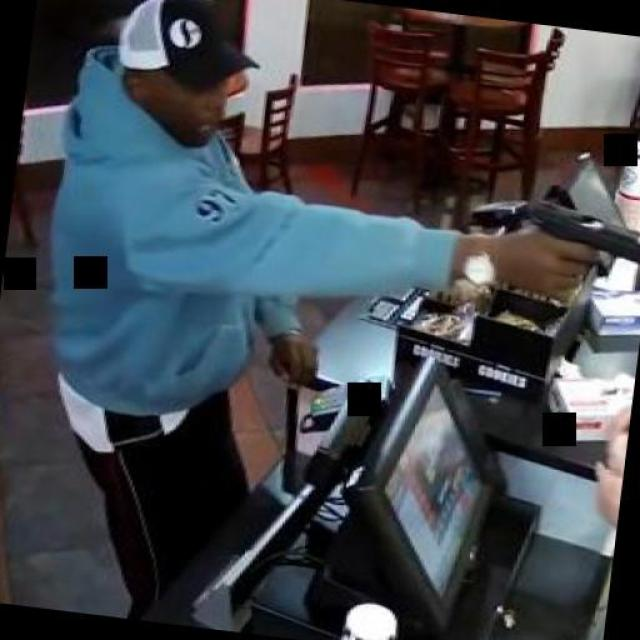gun: (507, 196, 640, 306)
